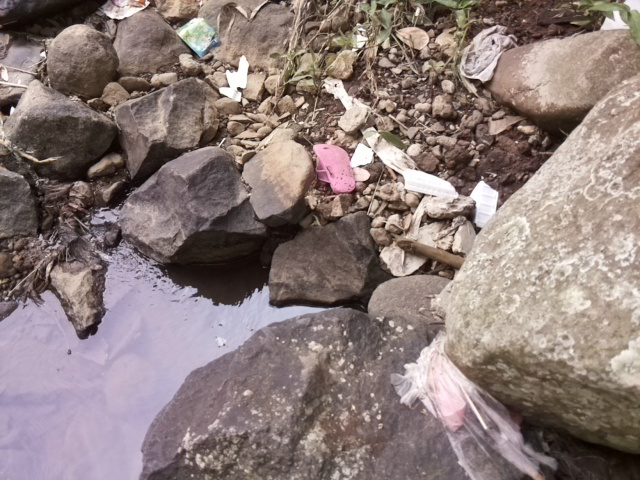Sampah_Plastik: (402, 335, 545, 478), (310, 140, 357, 195), (175, 17, 220, 58)
Sampah_Styrofoam: (400, 167, 460, 201), (468, 180, 498, 230), (221, 57, 249, 100)
